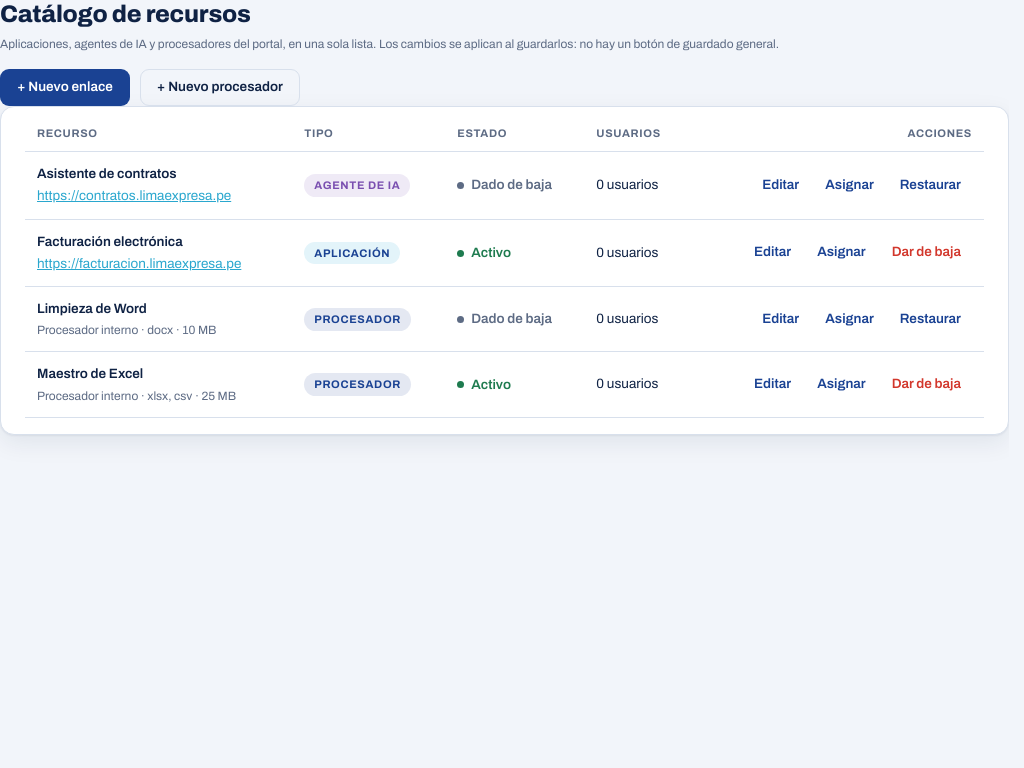
Test: <CatalogoAdmin /> › abre el alta de un enlace en un diálogo y la cierra sin guardar nada
Click the button "+ Nuevo enlace" at (65, 87), box [0,69,130,106]
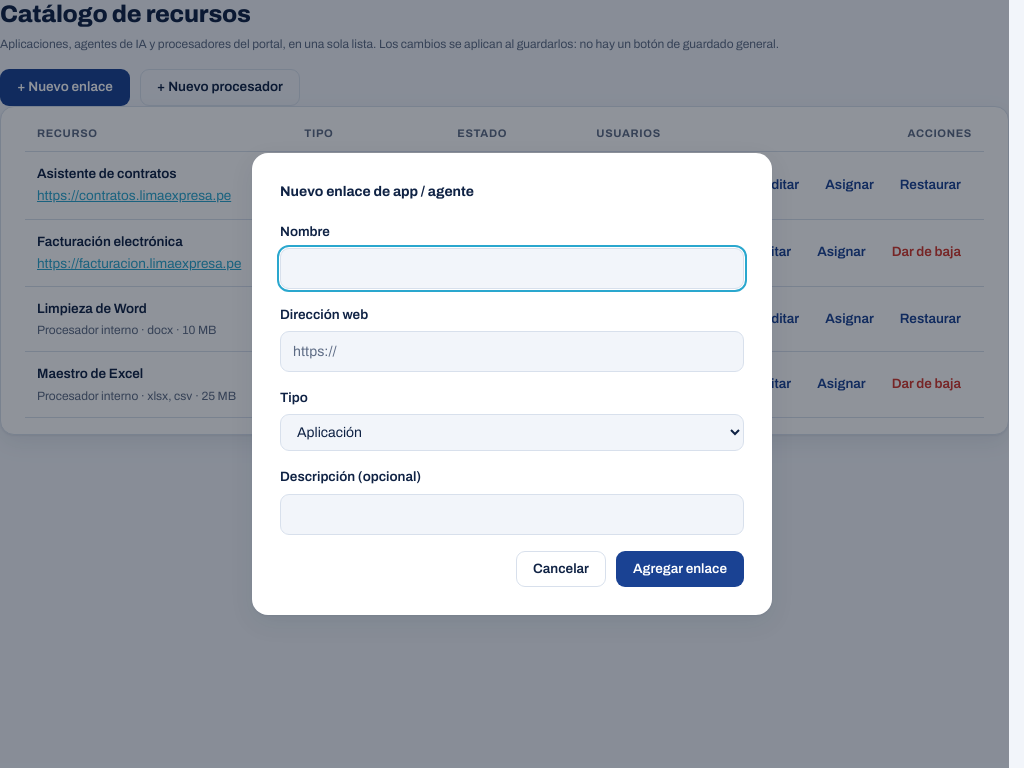
Expected: the dialog "Nuevo enlace de app / agente" is shown, [252,153,772,616]
Click the button "Cancelar" at (561, 569), box [516,551,606,588]
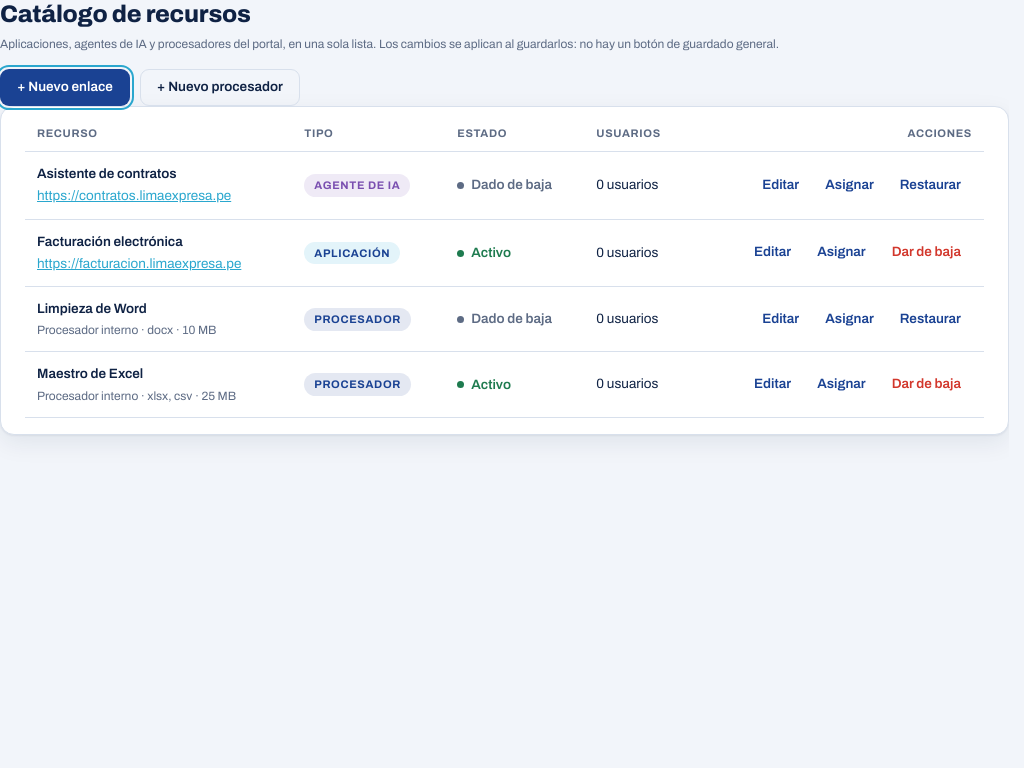
Expected: the dialog is gone
